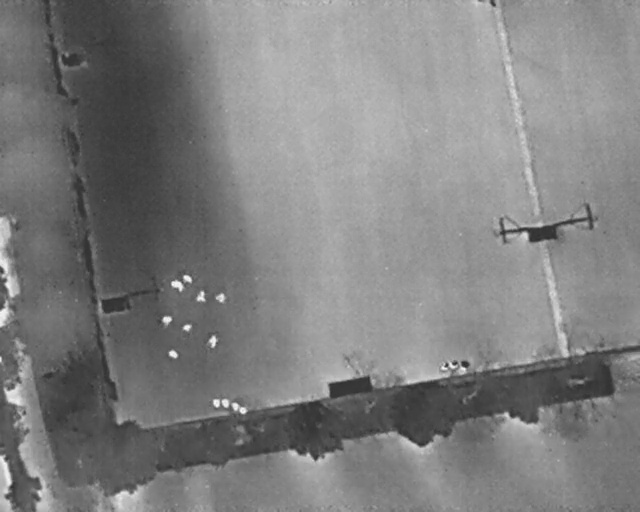Person: (171, 279, 183, 292), (208, 333, 218, 348), (196, 289, 207, 302), (162, 314, 172, 328), (215, 291, 226, 303), (168, 348, 179, 358), (183, 273, 193, 283), (183, 322, 192, 331)
